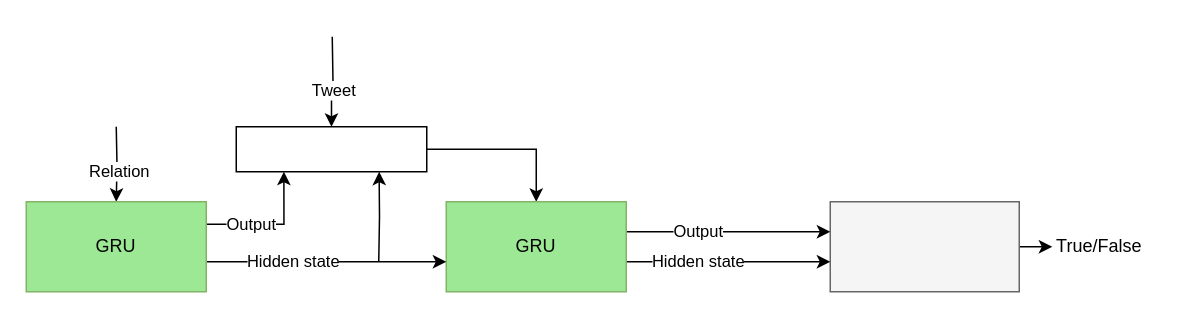
Image size: 1178x318. Some labels were removed from this diagram. The centre of each missing label's shape, as x and y in pixels:
"Attention" belongs at [331,148].
"Classifier" belongs at [924,246].
